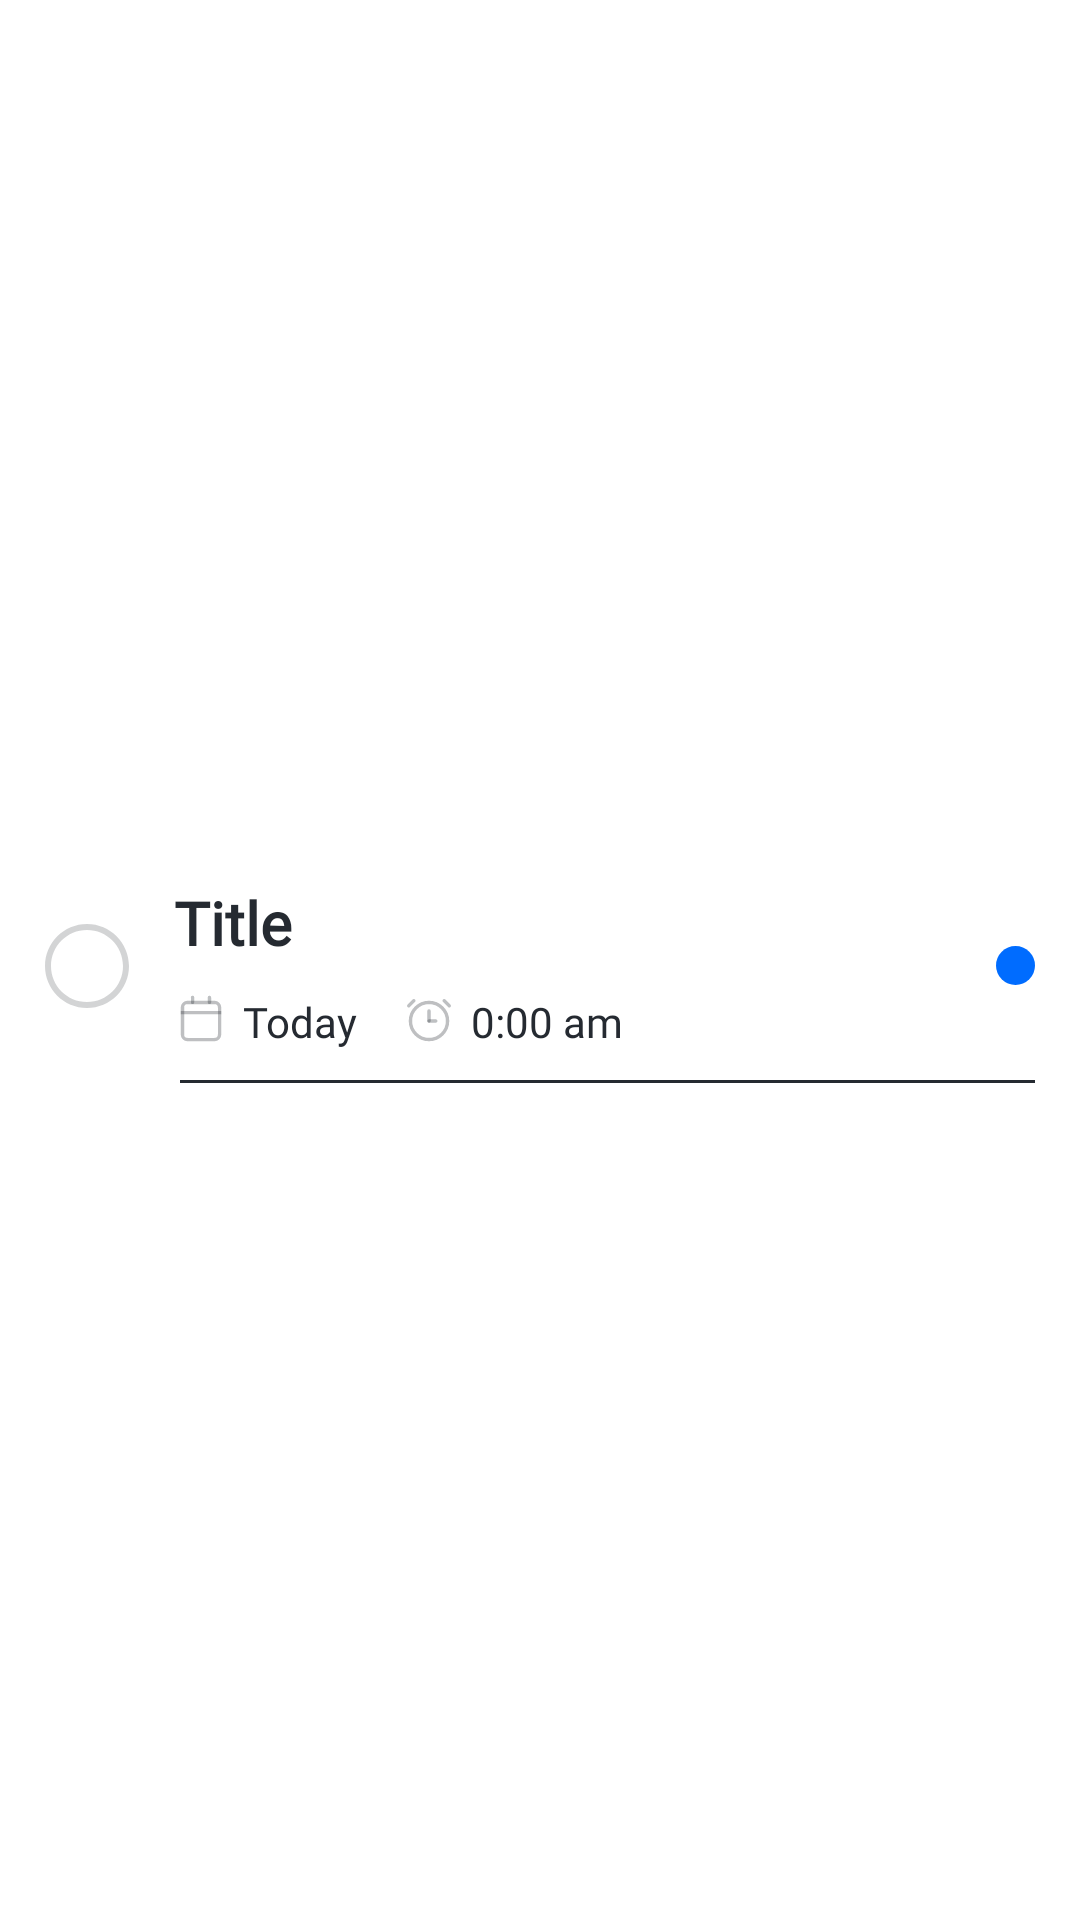

Named icons in this screenshot (1080w x 1920h) and their centers, [x,y]:
alarm: [429,1020]
calendar: [201,1018]
unmarked: [87,966]
